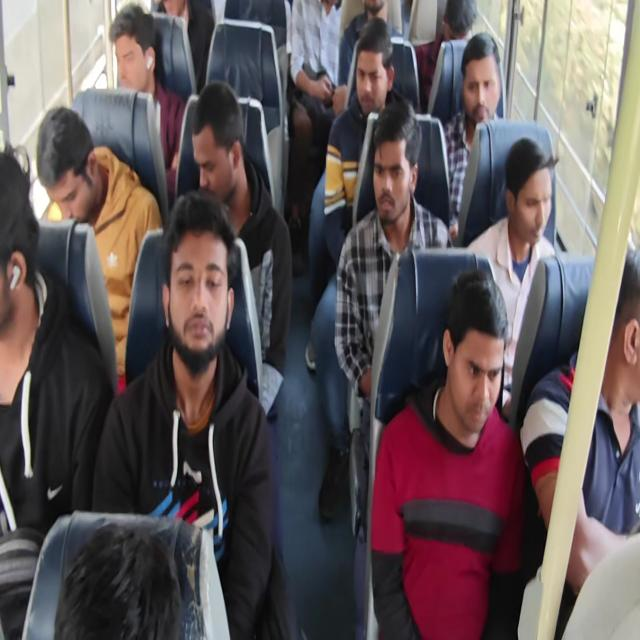person: (62, 516, 192, 640), (596, 252, 640, 497), (443, 294, 504, 448), (171, 221, 235, 359), (30, 133, 113, 233), (0, 142, 36, 314), (455, 37, 513, 138), (183, 112, 239, 206), (366, 132, 424, 222), (512, 144, 556, 251), (109, 13, 159, 94), (348, 36, 388, 116), (438, 0, 488, 53), (359, 0, 389, 27)
